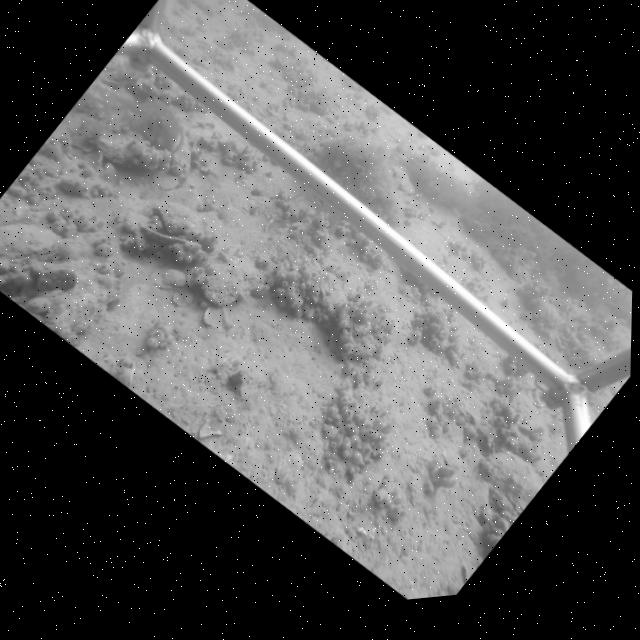Oyster-Indeterminate: (191, 255, 257, 310)
